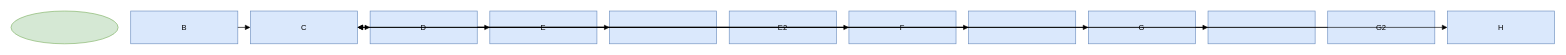
Image size: 1566x55. Some labels were removed from this diagram. Here are the shapes that lost their labels. From the top down, the box of each, then its label:
(10, 10, 118, 44): Bắt đầu
(609, 10, 717, 44): E1
(968, 10, 1076, 44): F1
(1207, 10, 1315, 44): G1
